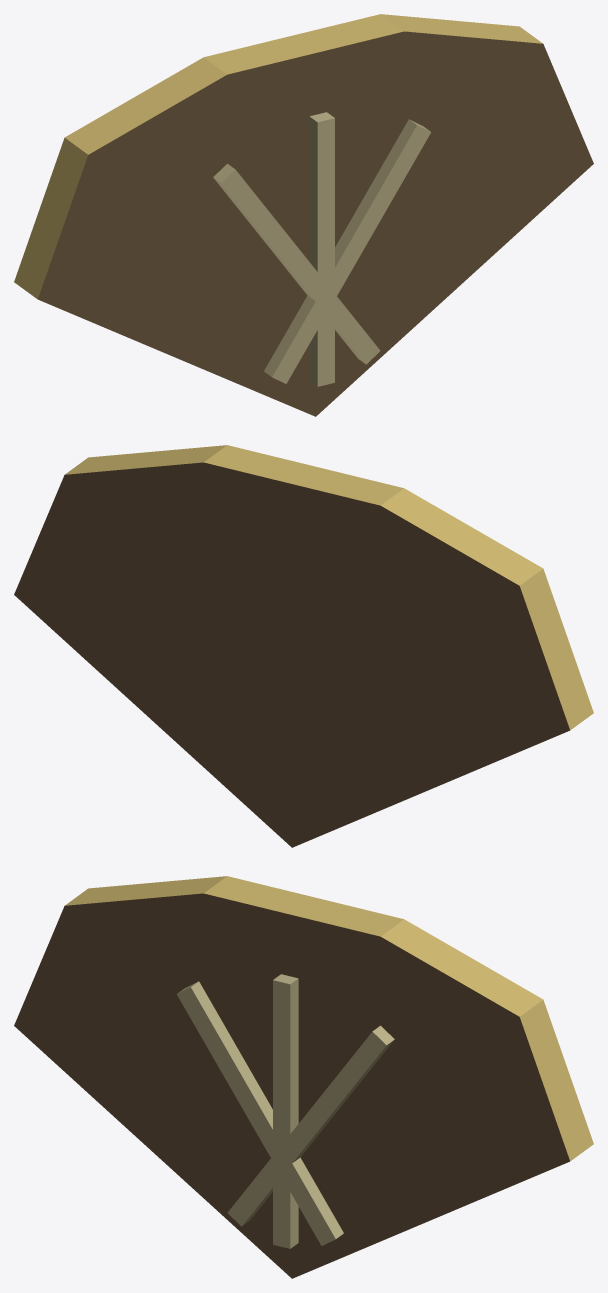
File: black_iron_leaf.obj
3 renders of one model, top to bottom at view 1: azimuth 30°, elevation 25°; view 2: azimuth 150°, elevation 25°; view 3: azimuth 330°, elevation 25°, orthographic.
Visible parts, largest first — view 1: iron_leaf, iron_leaf_edge, vein_35_iron_vein, vein_-35_iron_vein, vein_0_iron_vein, vein_-35_iron_vein_edge, vein_0_iron_vein_edge, vein_35_iron_vein_edge; view 2: iron_leaf, iron_leaf_edge; view 3: iron_leaf, iron_leaf_edge, vein_-35_iron_vein, vein_35_iron_vein, vein_0_iron_vein, vein_35_iron_vein_edge, vein_0_iron_vein_edge, vein_-35_iron_vein_edge.
Part boxes in pixels (x1=…): iron_leaf: x1=38, y1=31, x2=593, y2=416; iron_leaf_edge: x1=14, y1=14, x2=542, y2=299; vein_35_iron_vein: x1=221, y1=169, x2=380, y2=364; vein_-35_iron_vein: x1=272, y1=125, x2=431, y2=383; vein_0_iron_vein: x1=317, y1=118, x2=334, y2=386; vein_-35_iron_vein_edge: x1=264, y1=119, x2=430, y2=376; vein_0_iron_vein_edge: x1=309, y1=112, x2=334, y2=386; vein_35_iron_vein_edge: x1=213, y1=163, x2=365, y2=363; iron_leaf: x1=14, y1=462, x2=569, y2=847; iron_leaf_edge: x1=65, y1=445, x2=593, y2=730; iron_leaf: x1=14, y1=893, x2=569, y2=1278; iron_leaf_edge: x1=65, y1=876, x2=593, y2=1161; vein_-35_iron_vein: x1=227, y1=1031, x2=386, y2=1226; vein_35_iron_vein: x1=176, y1=987, x2=335, y2=1245; vein_0_iron_vein: x1=273, y1=980, x2=290, y2=1248; vein_35_iron_vein_edge: x1=177, y1=981, x2=343, y2=1238; vein_0_iron_vein_edge: x1=273, y1=974, x2=298, y2=1248; vein_-35_iron_vein_edge: x1=242, y1=1025, x2=394, y2=1225.
Size of the model in its own units: 1.76 by 1.1 by 0.1875.
